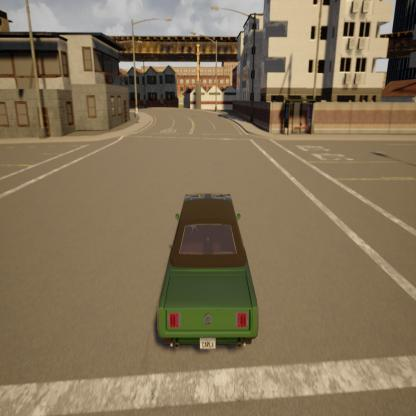Cars: (140, 174, 273, 361)
Pedestrian: (134, 97, 140, 129)
